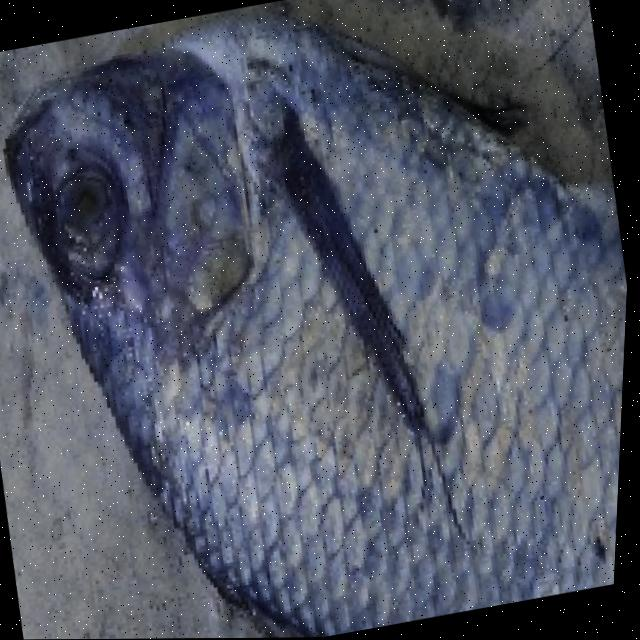Non-Fresh: (137, 0, 640, 639), (30, 135, 166, 285)
